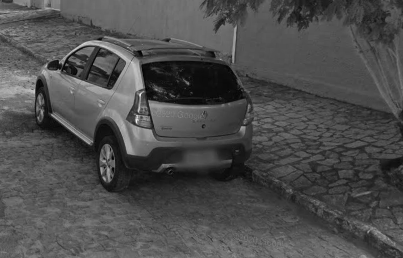car: (30, 19, 255, 194)
